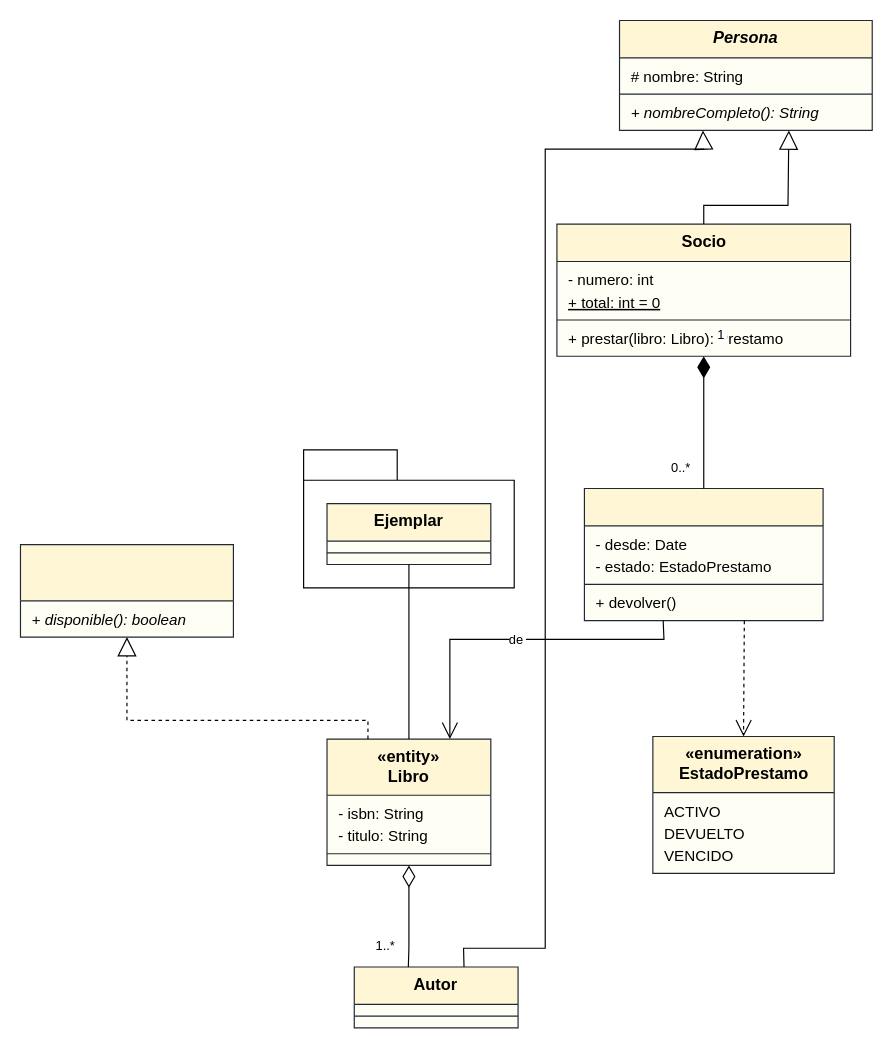
Some shapes in this 893 by 1048 pixel diagram are drawn without their labels. The shapes that lost their labels are listed below. From the top down, each one's box as (x1, y1, x2, y2) in pixels, then its label:
(302, 449, 514, 588): catalogo
(583, 487, 823, 621): Préstamo
(19, 543, 233, 637): «interface» Prestable
